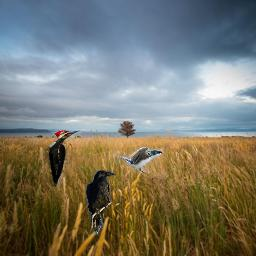Crow: (86, 170, 115, 236)
Swallow: (113, 146, 164, 173)
Woodpecker: (45, 129, 82, 187)
